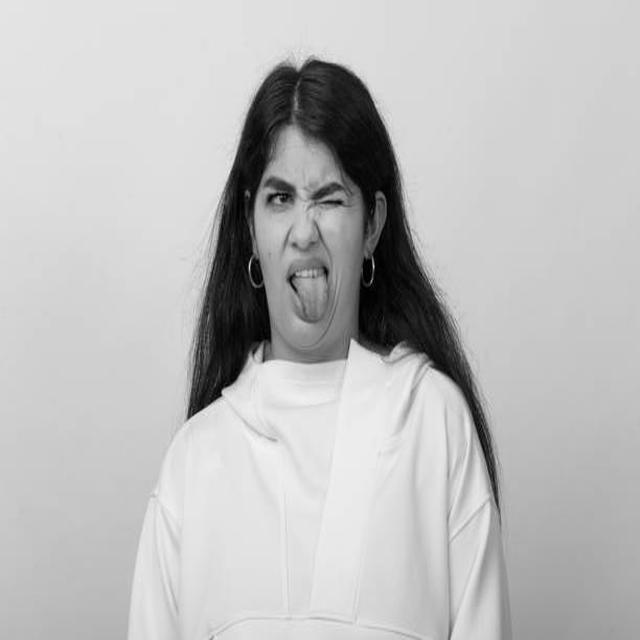Disgust: (252, 127, 366, 355)
